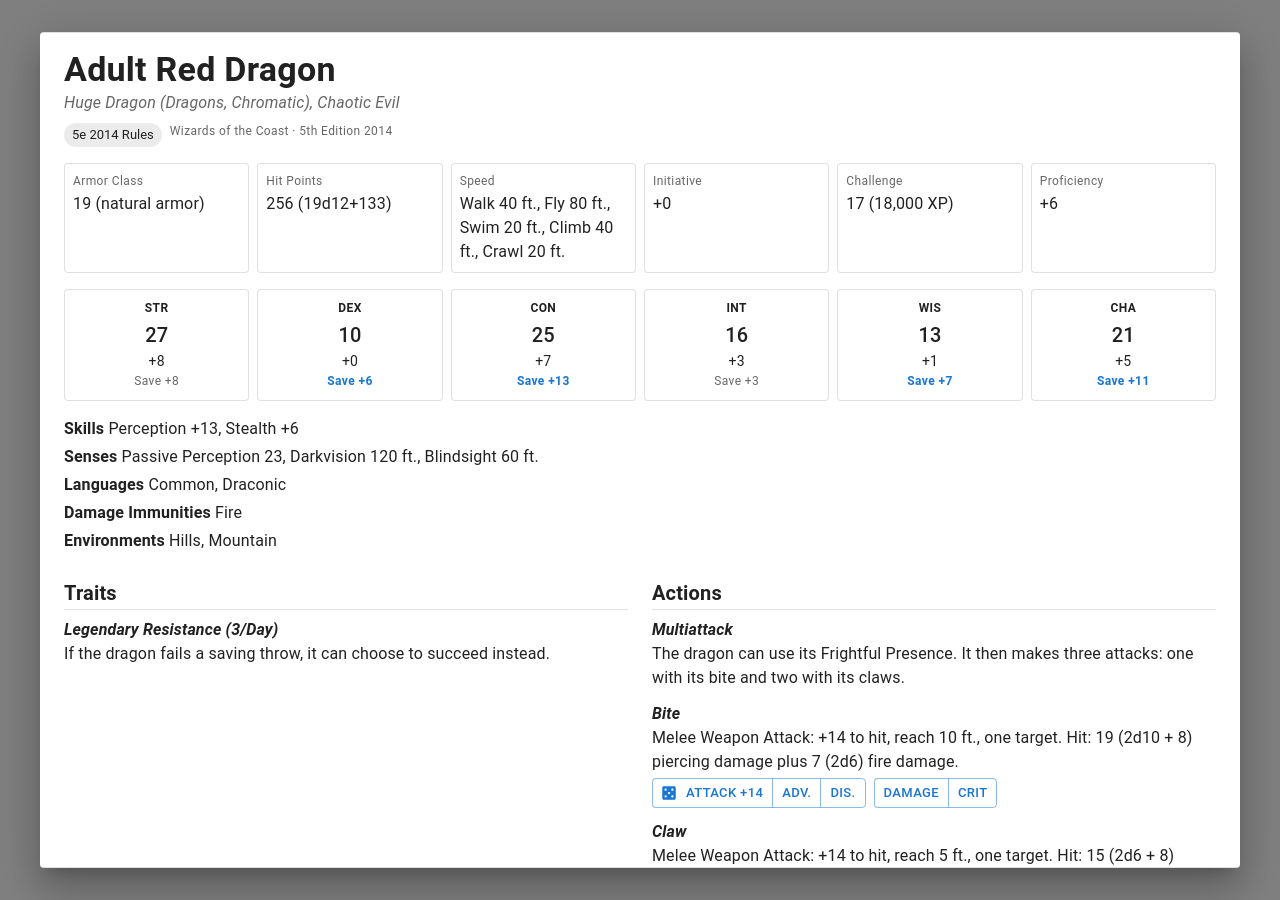
CreatureInfoDialog › rolling its actions › rolls an attack with the creature's bonus
The width and height of the screenshot is (1280, 900).
Click the button with aria-label "Roll attack for Bite".
click(713, 793)  # box top-left (652, 778), bottom-right (773, 808)
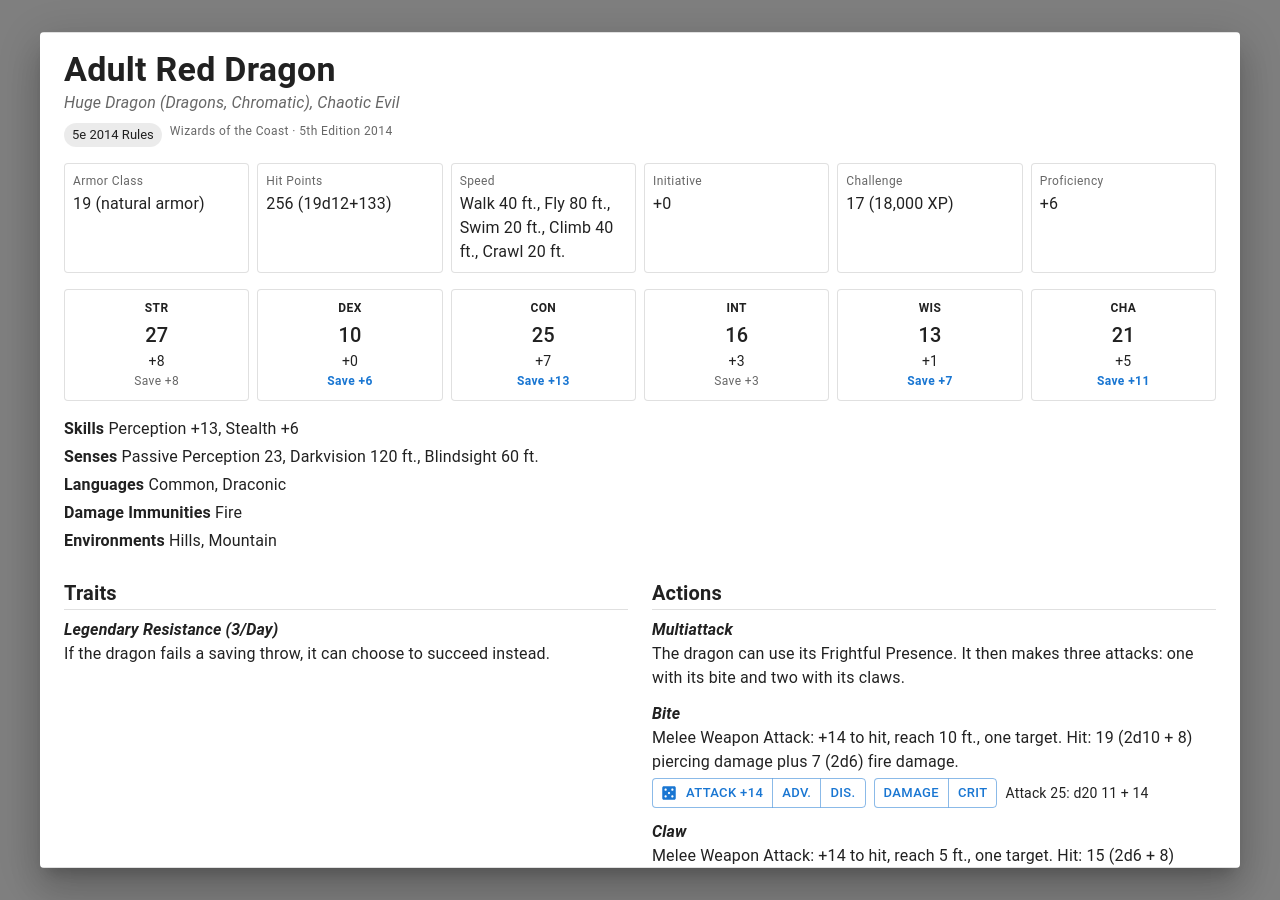
Check: the message reads "Attack 25: d20 11 + 14", box top-left (1006, 785), bottom-right (1149, 801)
